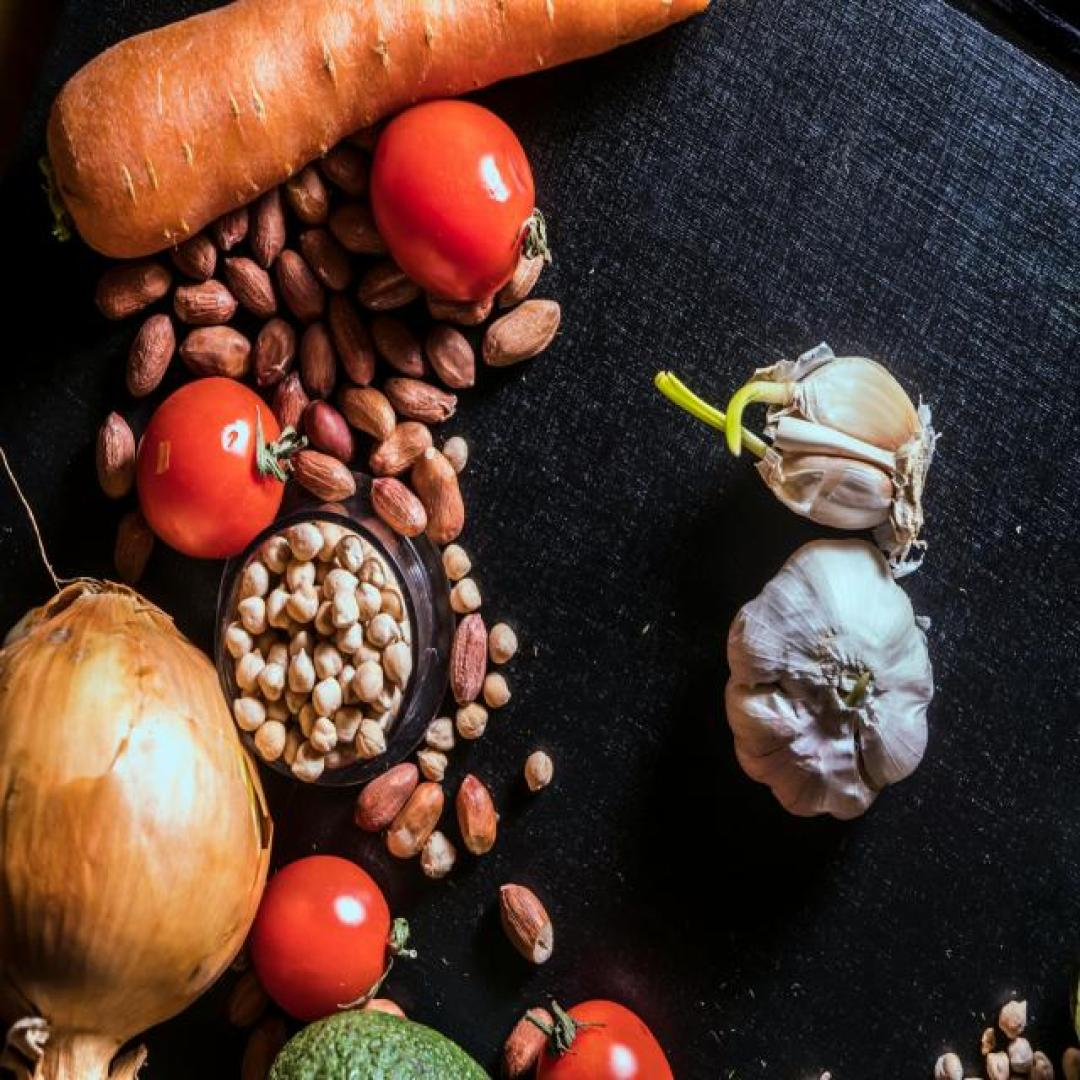matang: (366, 96, 540, 302), (139, 378, 294, 557), (248, 857, 403, 1031)
